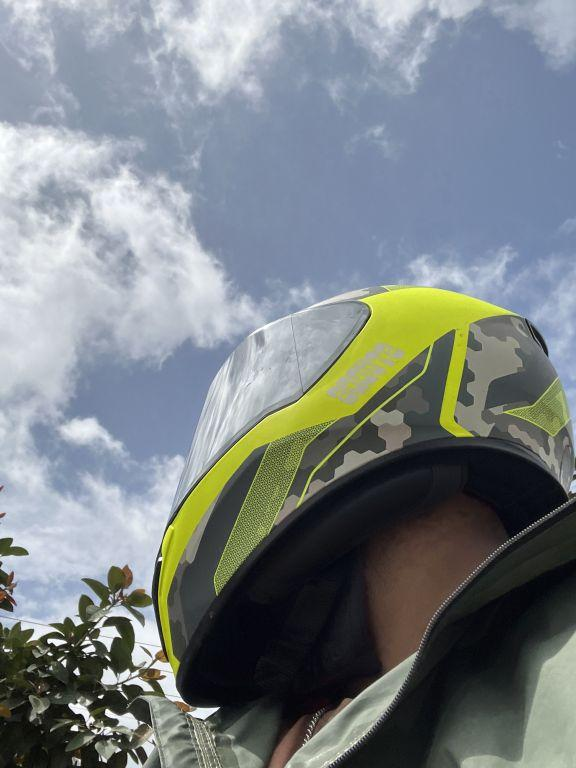helmet: (145, 274, 576, 723)
